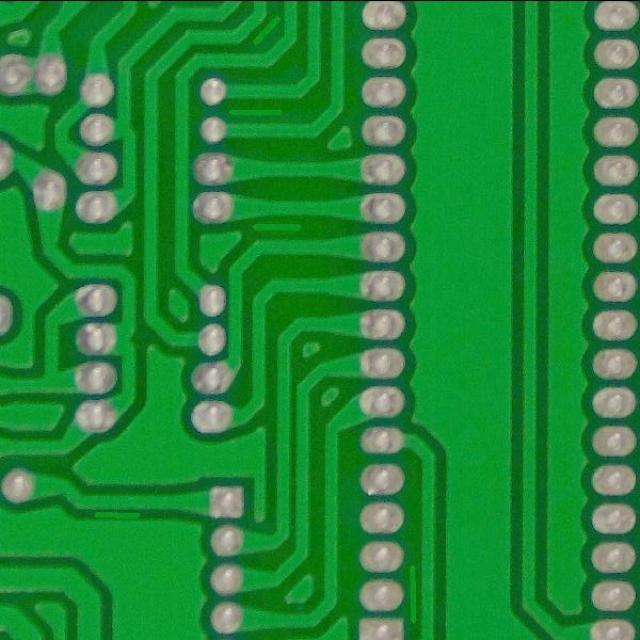Spurious_Cooper: (243, 8, 288, 51), (404, 560, 422, 628), (226, 102, 288, 120), (248, 218, 307, 234), (91, 509, 144, 520)
